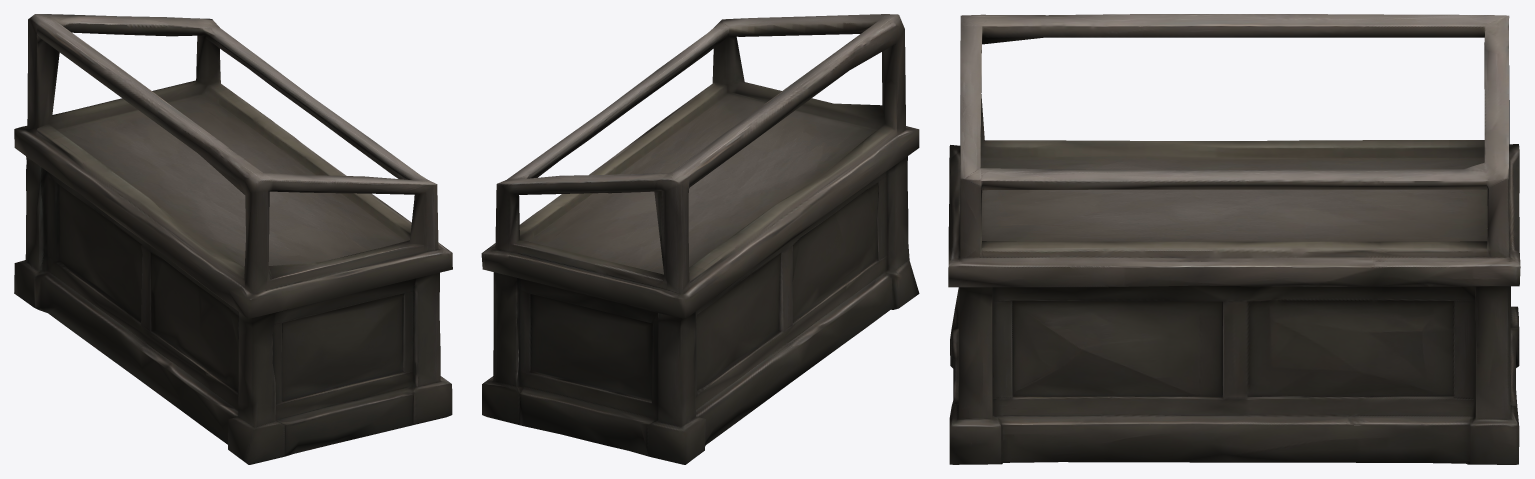
Rendered from wooden+display+case+3d+model.glb.
3 views of the same model, side by side, from view 1: azimuth 30°, elevation 25°; view 2: azimuth 150°, elevation 25°; view 3: azimuth 270°, elevation 25° (orthographic). The views are drawn at different scales.
Visible parts, largest first — view 1: tripo_node_2d8d4ac5-f033-45c2-b24c-8c598f17bc99; view 2: tripo_node_2d8d4ac5-f033-45c2-b24c-8c598f17bc99; view 3: tripo_node_2d8d4ac5-f033-45c2-b24c-8c598f17bc99.
Boxes of the visible parts, x1,y1,x2,y2 form: tripo_node_2d8d4ac5-f033-45c2-b24c-8c598f17bc99: (14, 14, 452, 464); tripo_node_2d8d4ac5-f033-45c2-b24c-8c598f17bc99: (481, 14, 919, 464); tripo_node_2d8d4ac5-f033-45c2-b24c-8c598f17bc99: (948, 14, 1520, 464).
Bounding box in the file's own units: 0.5011 × 0.6595 × 1.
Materials: 1 (1 with a texture image).
